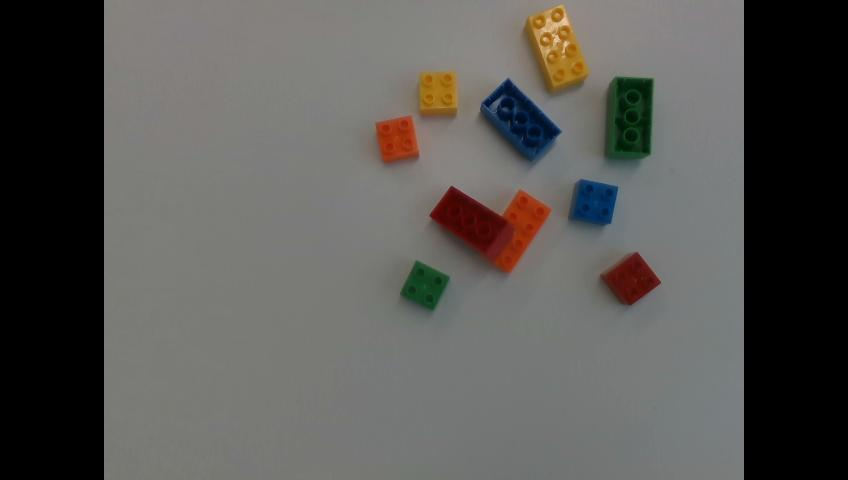2x2_blue: (572, 179, 617, 222)
2x2_green: (400, 260, 450, 308)
2x2_orange: (376, 114, 419, 161)
2x2_red: (601, 251, 661, 303)
2x2_yellow: (420, 69, 456, 113)
4x2_blue: (479, 77, 559, 159)
4x2_green: (608, 75, 654, 158)
4x2_orange: (497, 190, 551, 271)
4x2_red: (430, 186, 513, 263)
4x2_yellow: (524, 6, 588, 90)
